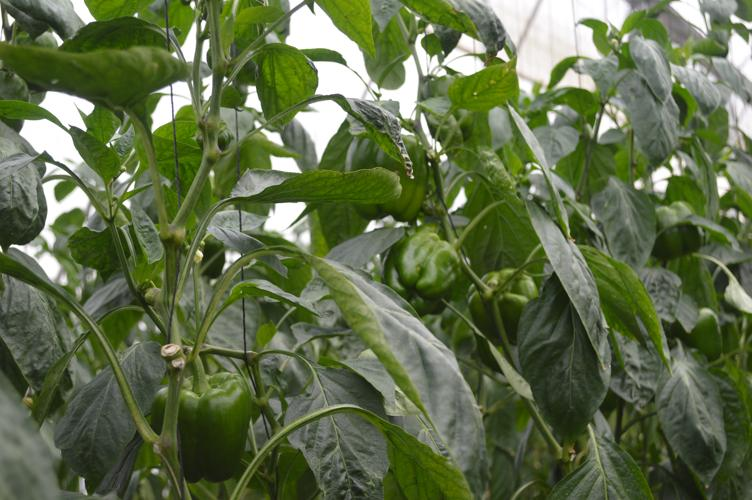BellPepper: (156, 372, 250, 481), (343, 133, 434, 225), (385, 234, 463, 310), (470, 267, 538, 345), (648, 201, 701, 260)
